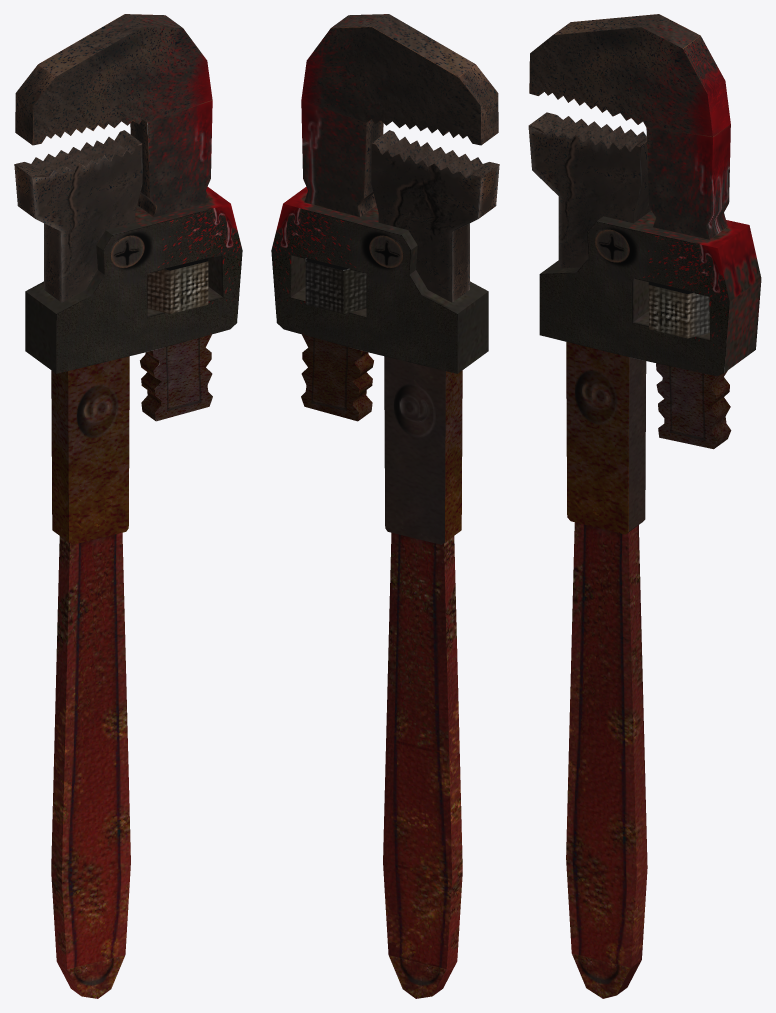
File: Wrech +9999 True Damage.fbx
The picture shows the model from 3 angles, left to right: view 1: azimuth 30°, elevation 25°; view 2: azimuth 150°, elevation 25°; view 3: azimuth 330°, elevation 25°; orthographic projection. The views are drawn at different scales.
Visible parts, largest first — view 1: polySurface1; view 2: polySurface1; view 3: polySurface1.
Part boxes in pixels (x1,y1,x2,y2): polySurface1: (14, 14, 242, 998); polySurface1: (271, 14, 499, 998); polySurface1: (528, 14, 761, 998).
Bounding box in the file's own units: 2.8 × 12.66 × 0.9024.
1 material, 1 textured.
